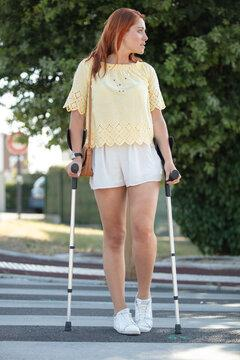crutches: (62, 8, 183, 335)
